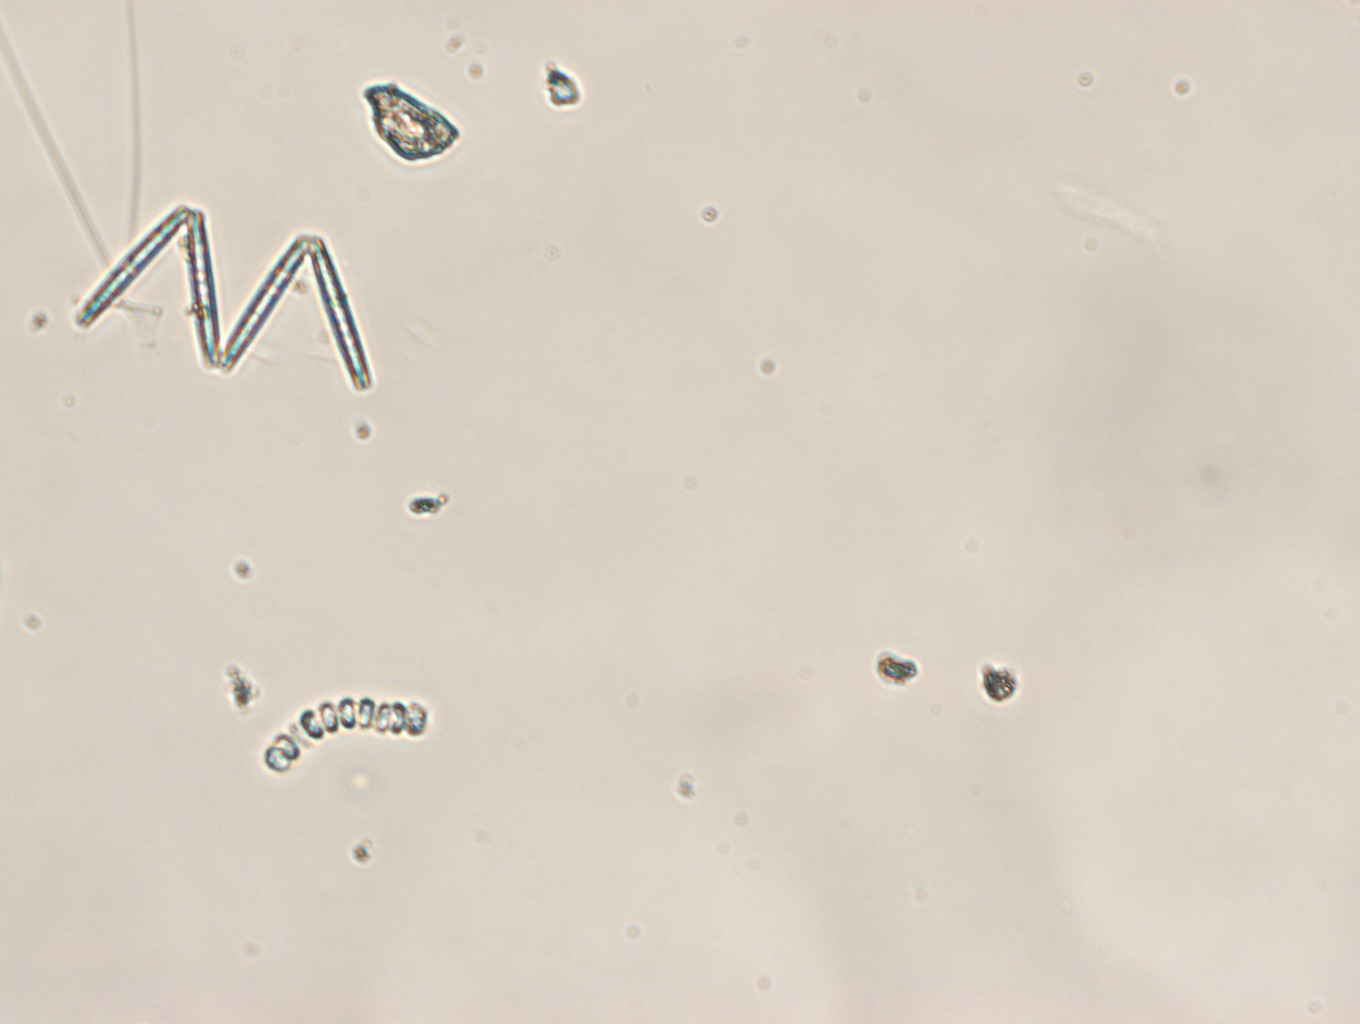skeletonema: (264, 693, 427, 777)
thalassionema nitzschioides: (72, 202, 378, 394)
